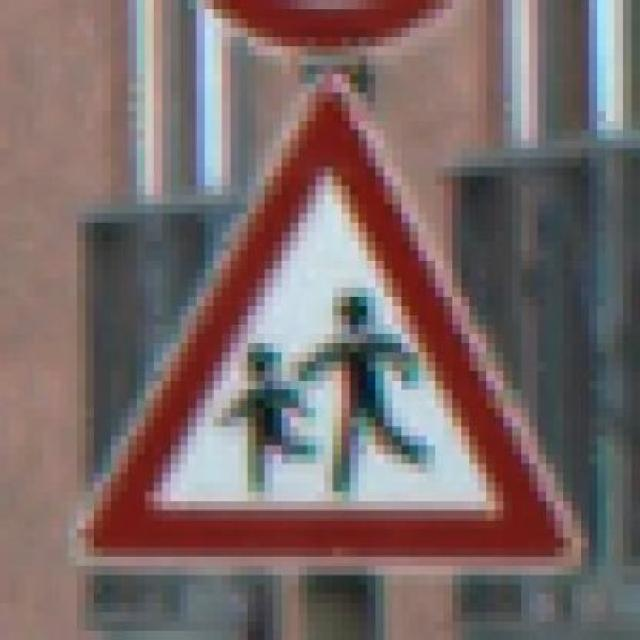Beware of children: (59, 64, 598, 576)
